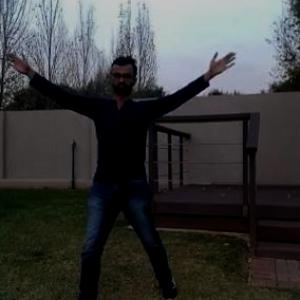takeoff: (0, 45, 243, 299)
